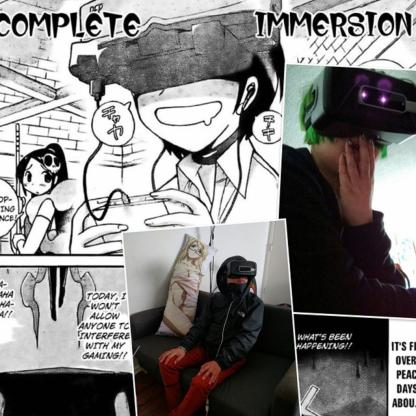Helmet: (219, 254, 259, 312)
